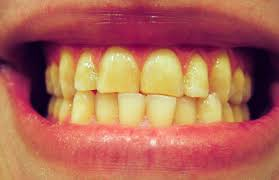normal: (144, 93, 177, 126), (118, 93, 145, 126), (244, 74, 252, 102), (243, 104, 250, 122), (48, 99, 52, 116)
yellow: (142, 49, 182, 98), (99, 49, 139, 92), (182, 51, 210, 97), (210, 51, 233, 100), (76, 53, 97, 90), (196, 94, 223, 122), (72, 93, 94, 123), (96, 92, 117, 123), (61, 55, 73, 96), (177, 96, 195, 123), (55, 95, 71, 123), (232, 67, 243, 103), (49, 64, 60, 96), (222, 99, 232, 122), (233, 103, 243, 122)
